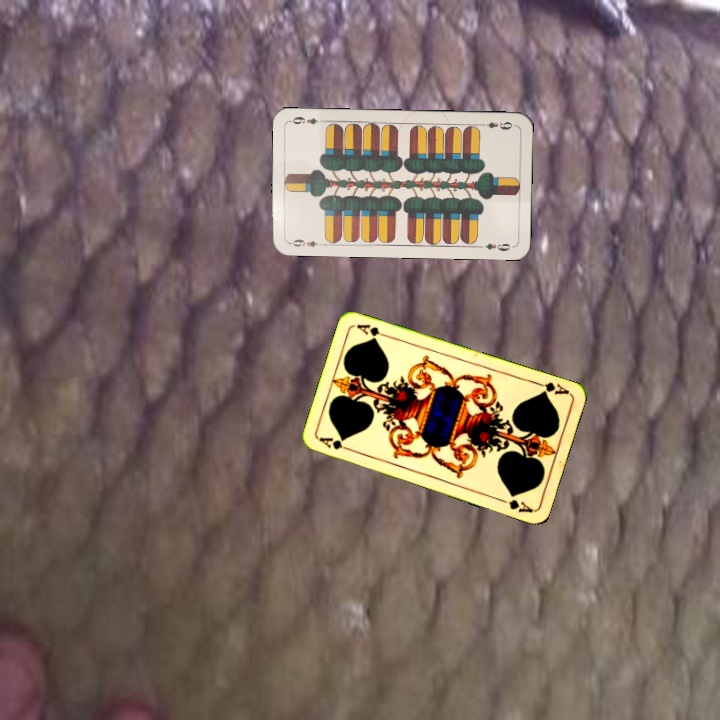E9: (285, 235, 326, 250), (476, 118, 515, 132)
GA: (315, 433, 355, 454), (532, 378, 572, 397)
